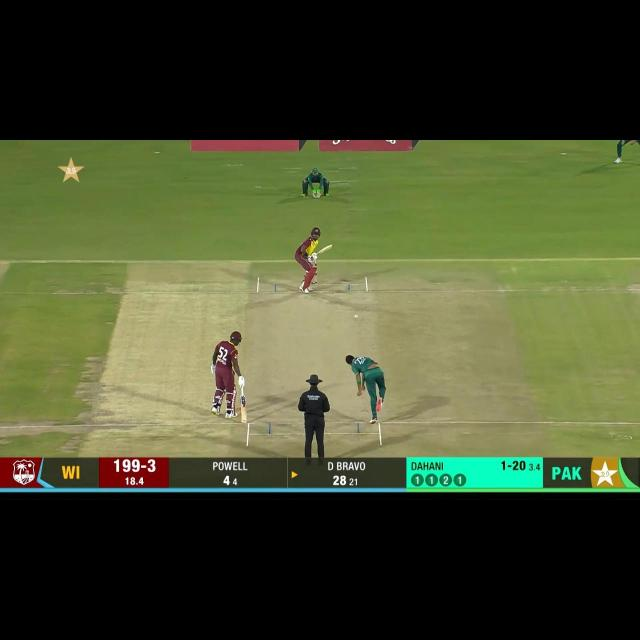bat: (239, 395, 248, 424), (315, 243, 334, 254)
toe: (327, 244, 333, 250), (241, 418, 247, 424)
